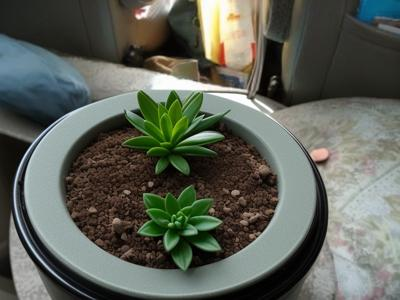pottedplant: (1, 90, 327, 299)
